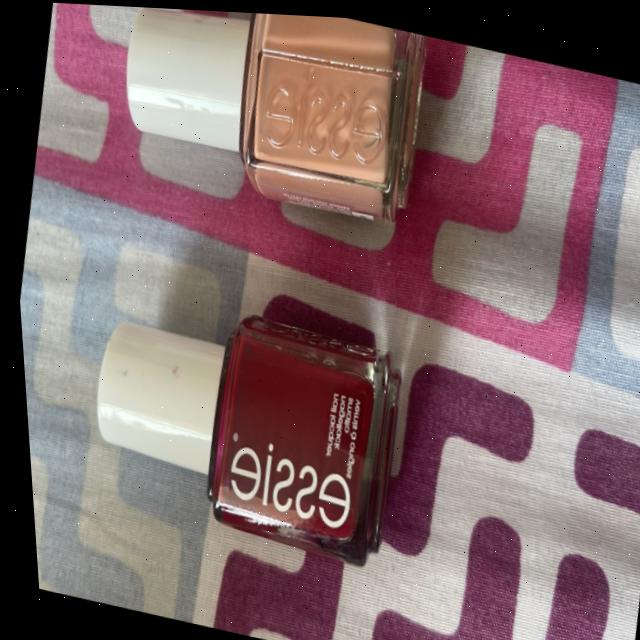nail polish: (23, 218, 438, 627), (73, 3, 459, 279)
